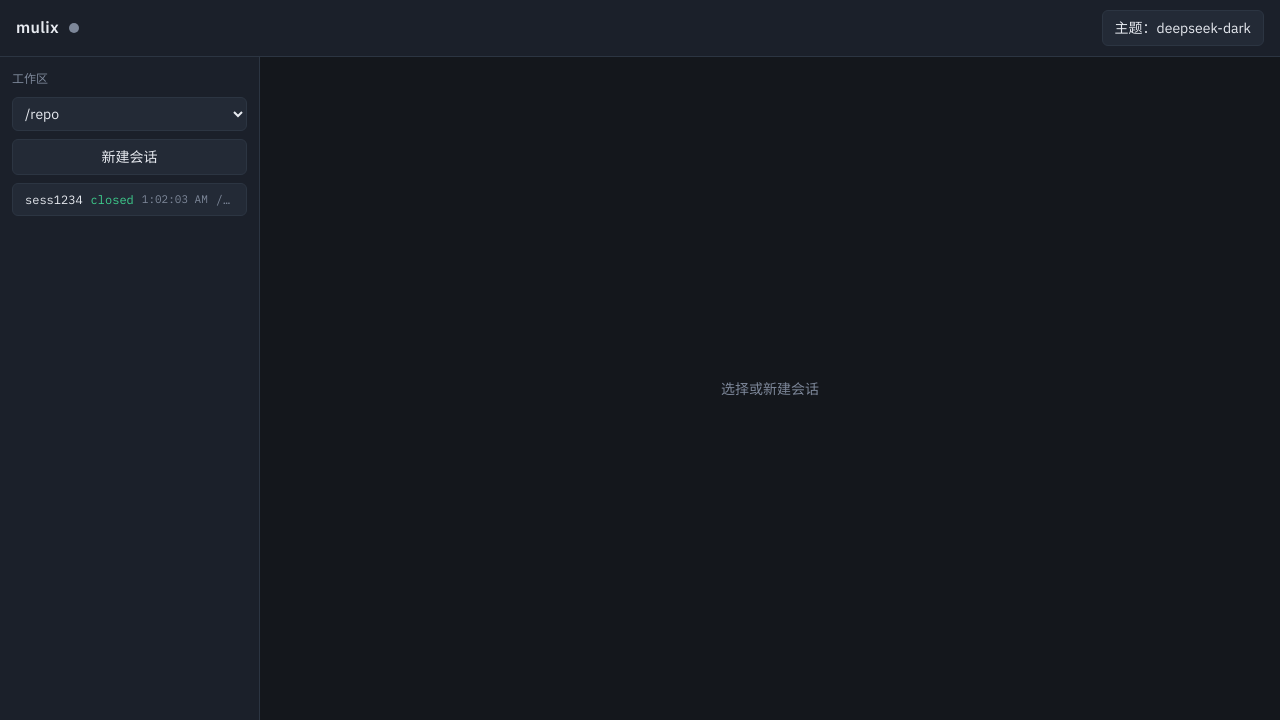
交互面（task-12） › 只读横幅与接管（403 → 横幅；接管 → open(id, true) → 解除）
Step 1. Click the button "sess1234 closed 1:02:03 AM /repo" → [130, 200], box [12,183,247,216]
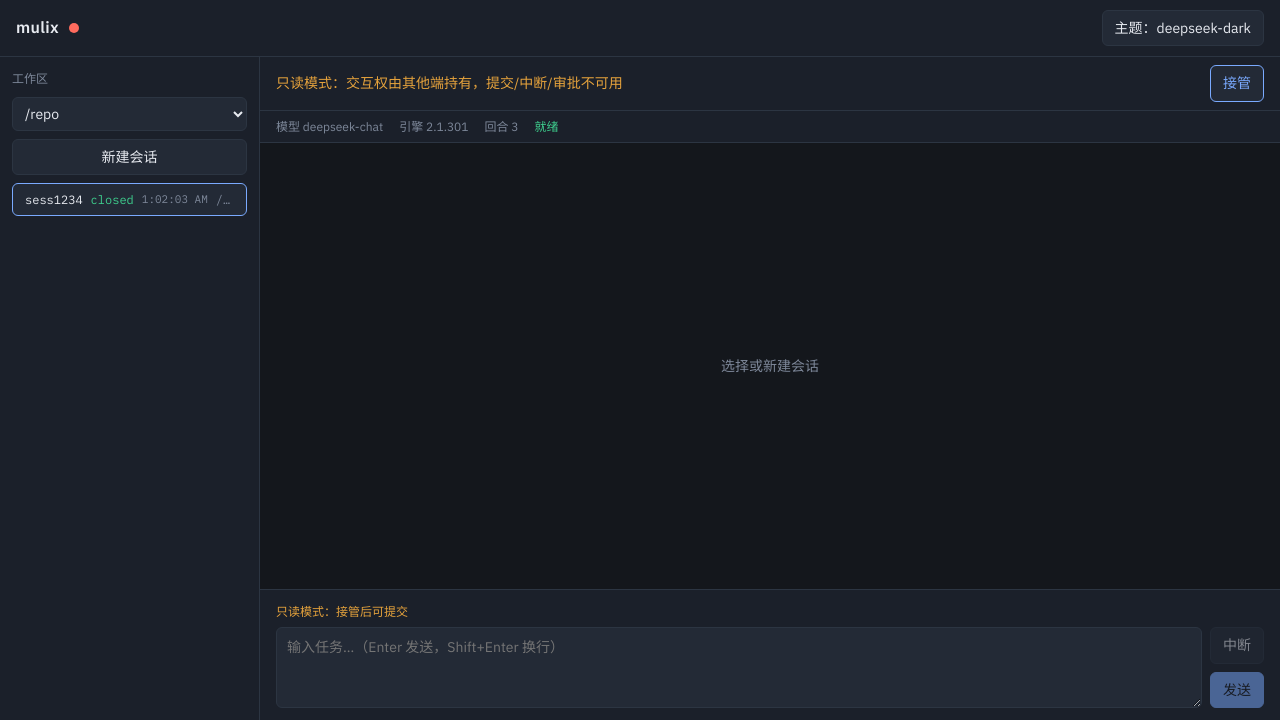
Now the message "只读模式：交互权由其他端持有，提交/中断/审批不可用 接管" is shown, box [260,57,1279,111]
Now the text box is disabled, box [276,627,1202,708]
Step 2. Click the button "接管" → [1237, 84], box [1210,65,1264,102]
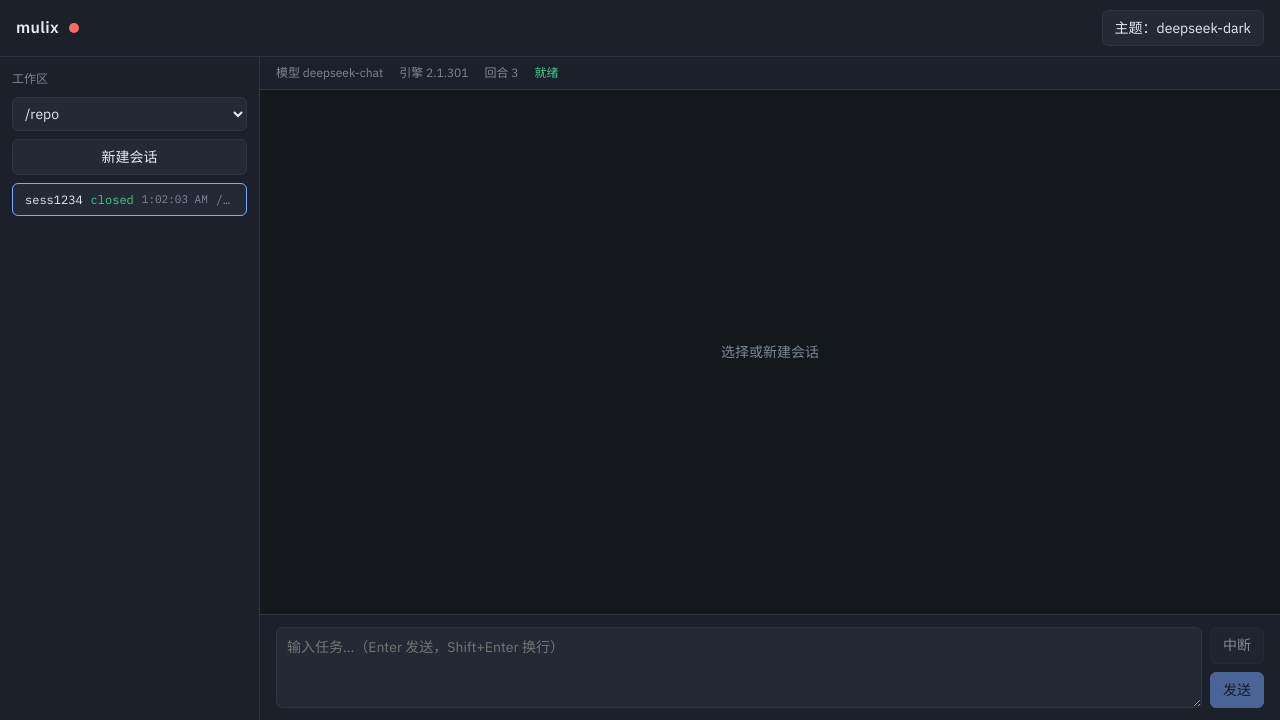
Now the message "只读模式：交互权由其他端持有，提交/中断/审批不可用 接管" is gone
Step 3. Type "接管后的任务" into the text box → [739, 668], box [276,627,1202,708]
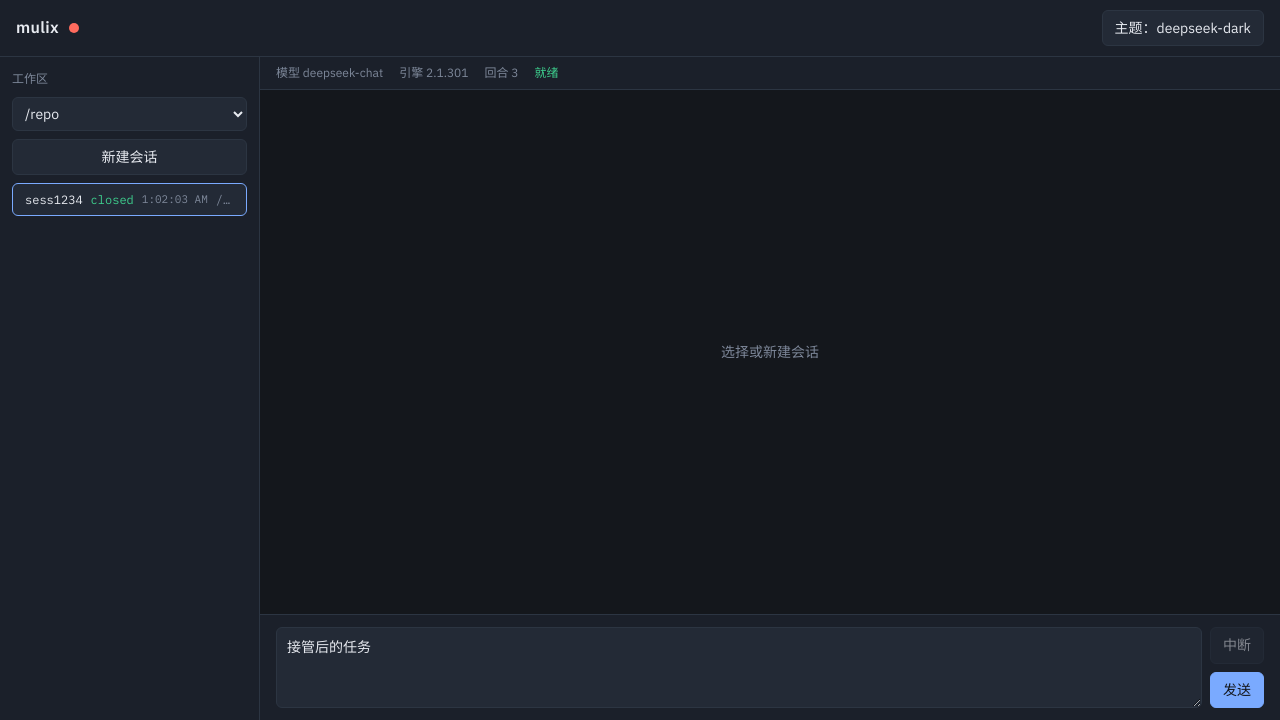
Now the button "发送" is enabled, box [1210,672,1264,708]
